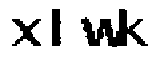k: (118, 6, 152, 49)
l: (47, 3, 67, 51)
w: (77, 14, 120, 51)
x: (7, 14, 43, 51)
